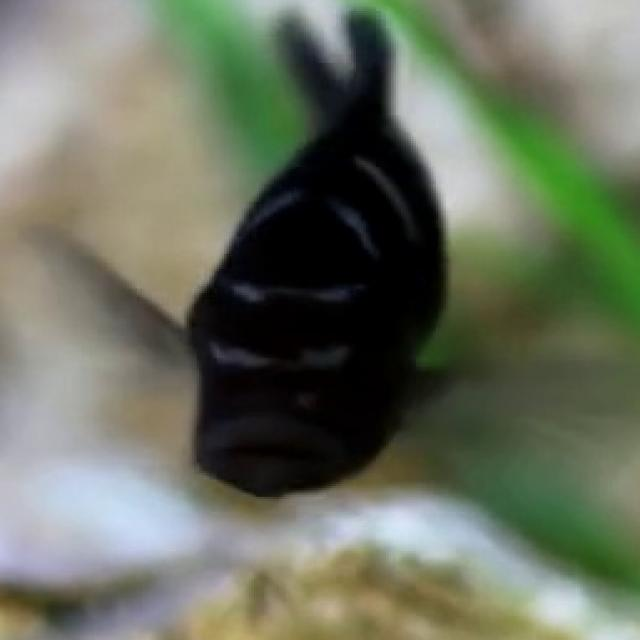fish: (0, 2, 638, 640)
